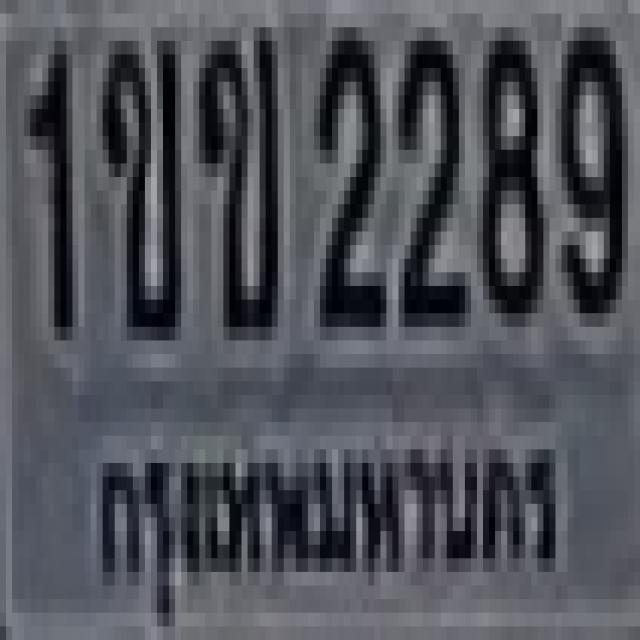1: (24, 41, 67, 327)
2: (314, 20, 380, 320), (392, 27, 459, 313)
8: (477, 14, 537, 313)
9: (555, 14, 622, 313)
A02: (193, 27, 278, 327), (97, 27, 175, 327)
BKK: (85, 404, 570, 628)
